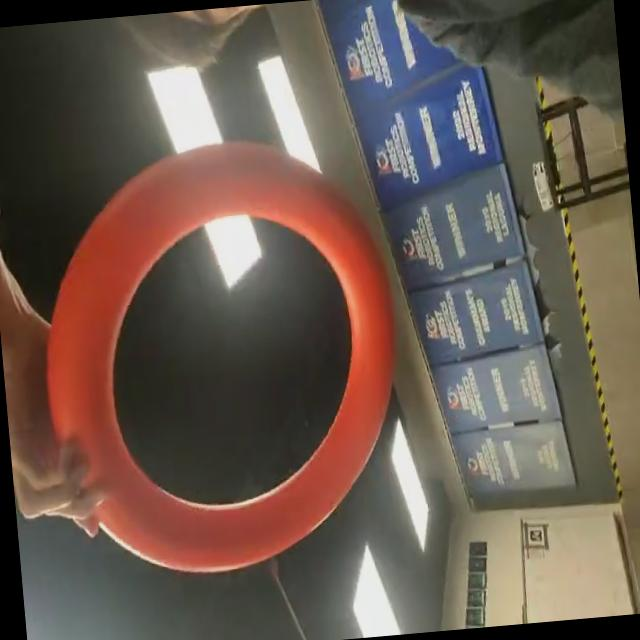note: (21, 121, 422, 587)
